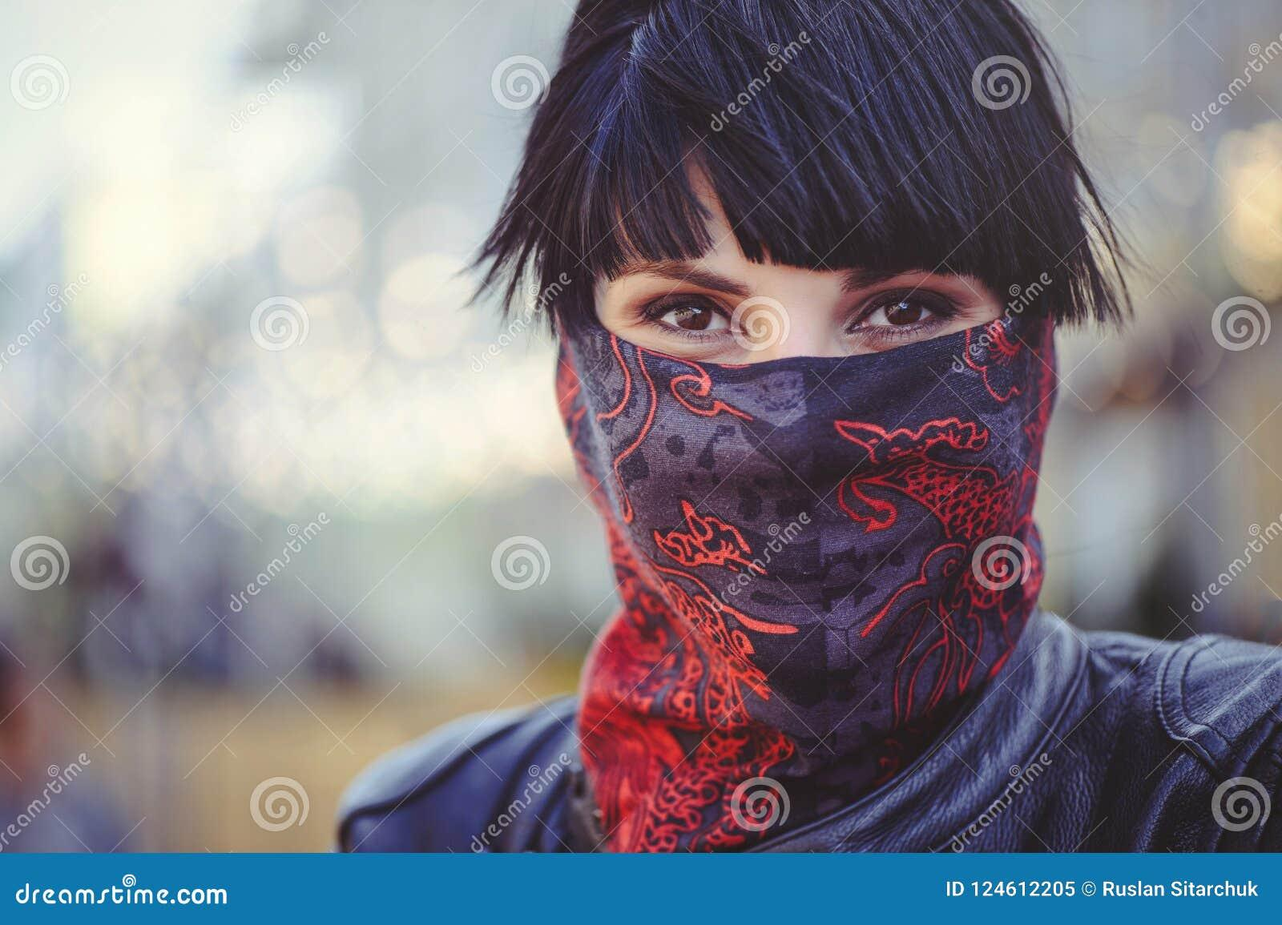scarf-kerchief: (513, 256, 1087, 753)
